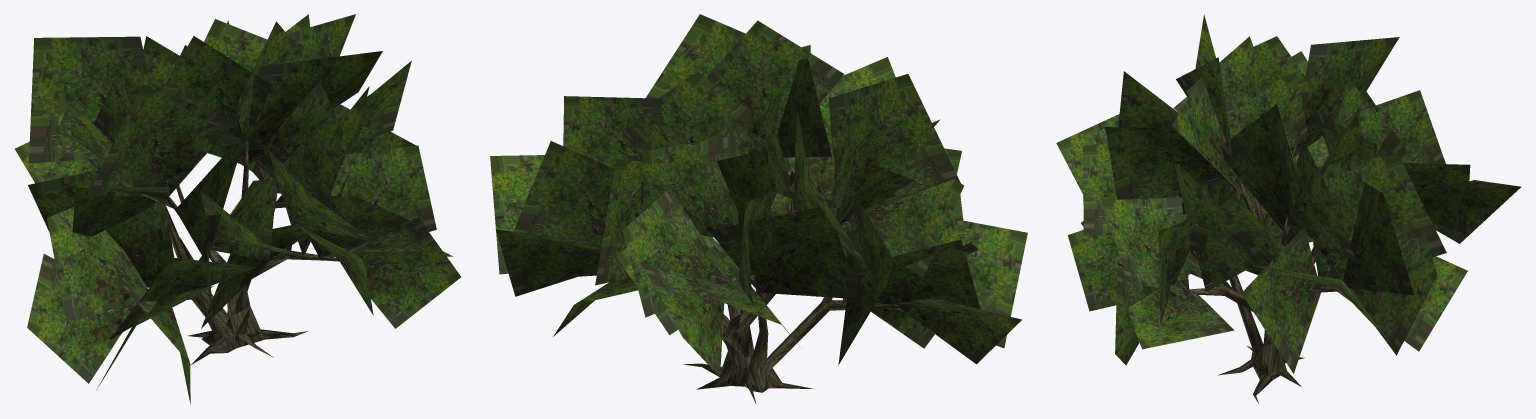
Rendered from Utility_Tree06_LOD2.FBX.
3 renders of one model, left to right at view 1: azimuth 30°, elevation 25°; view 2: azimuth 150°, elevation 25°; view 3: azimuth 270°, elevation 25°, orthographic. The views are drawn at different scales.
Visible parts, largest first — view 1: cmc_shu06_02_LOD2, cmc_shu06_01_LOD2; view 2: cmc_shu06_02_LOD2, cmc_shu06_01_LOD2; view 3: cmc_shu06_02_LOD2, cmc_shu06_01_LOD2.
Part boxes in pixels (box(x1,y1,x2,y2)): cmc_shu06_02_LOD2: box(15, 14, 460, 404); cmc_shu06_01_LOD2: box(123, 140, 339, 365); cmc_shu06_02_LOD2: box(490, 14, 1027, 376); cmc_shu06_01_LOD2: box(683, 195, 904, 403); cmc_shu06_02_LOD2: box(1056, 14, 1521, 373); cmc_shu06_01_LOD2: box(1178, 146, 1340, 404).
Size of the model in its own units: 2306 by 1636 by 2139.
Materials: 2 (2 with a texture image).
